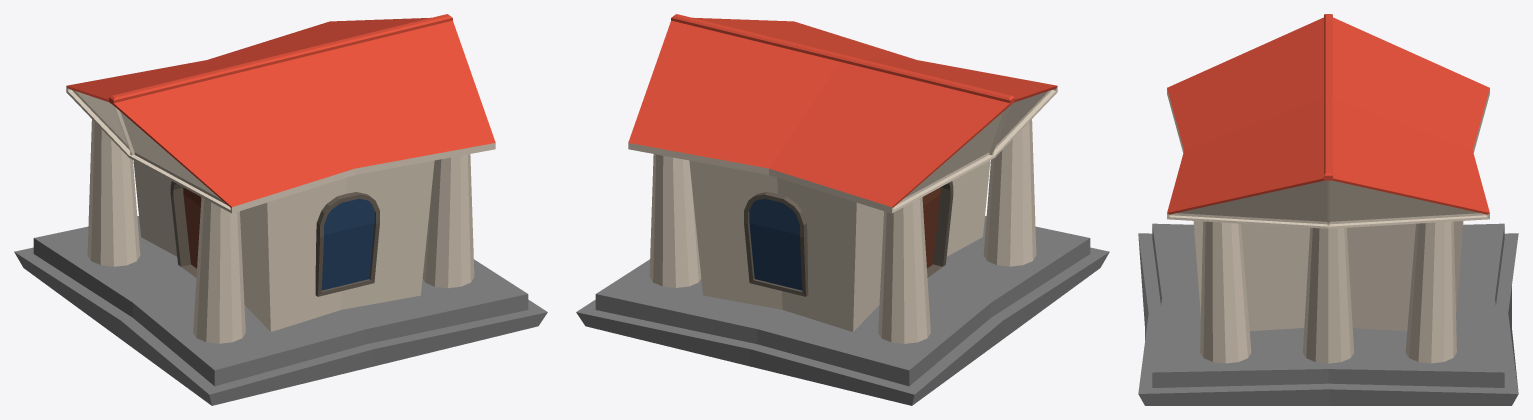
The model's file is house.glb.
3 views of the same model, side by side, from view 1: azimuth 30°, elevation 25°; view 2: azimuth 150°, elevation 25°; view 3: azimuth 270°, elevation 25° (orthographic). The views are drawn at different scales.
Visible parts, largest first — view 1: ceiling, Cube, Cylinder.001, Cube.003, Cylinder.006, Cylinder.004, Cylinder.002; view 2: ceiling, Cube, Cylinder.001, Cube.003, Cylinder.004, Cylinder.006, Cylinder.000; view 3: ceiling, Cube, Cylinder.001, Cylinder.002, Cylinder.000, Cylinder.003.
Part boxes in pixels (bbox=[...]): ceiling: bbox=[66, 14, 495, 213]; Cube: bbox=[14, 216, 547, 405]; Cylinder.001: bbox=[133, 160, 434, 331]; Cube.003: bbox=[170, 181, 379, 296]; Cylinder.006: bbox=[193, 197, 245, 343]; Cylinder.004: bbox=[87, 119, 140, 266]; Cylinder.002: bbox=[422, 154, 474, 288]; ceiling: bbox=[628, 14, 1057, 213]; Cube: bbox=[576, 216, 1109, 405]; Cylinder.001: bbox=[689, 160, 990, 331]; Cube.003: bbox=[744, 181, 953, 296]; Cylinder.004: bbox=[878, 197, 930, 343]; Cylinder.006: bbox=[983, 119, 1036, 266]; Cylinder.000: bbox=[649, 154, 701, 287]; ceiling: bbox=[1167, 14, 1489, 228]; Cube: bbox=[1138, 223, 1518, 405]; Cylinder.001: bbox=[1193, 221, 1463, 331]; Cylinder.002: bbox=[1200, 221, 1251, 363]; Cylinder.000: bbox=[1405, 221, 1456, 363]; Cylinder.003: bbox=[1302, 228, 1354, 363].
Size of the model in its own units: 104 by 70.61 by 104.
